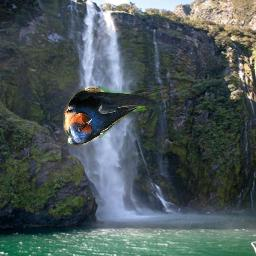Swallow: (63, 86, 169, 146)
